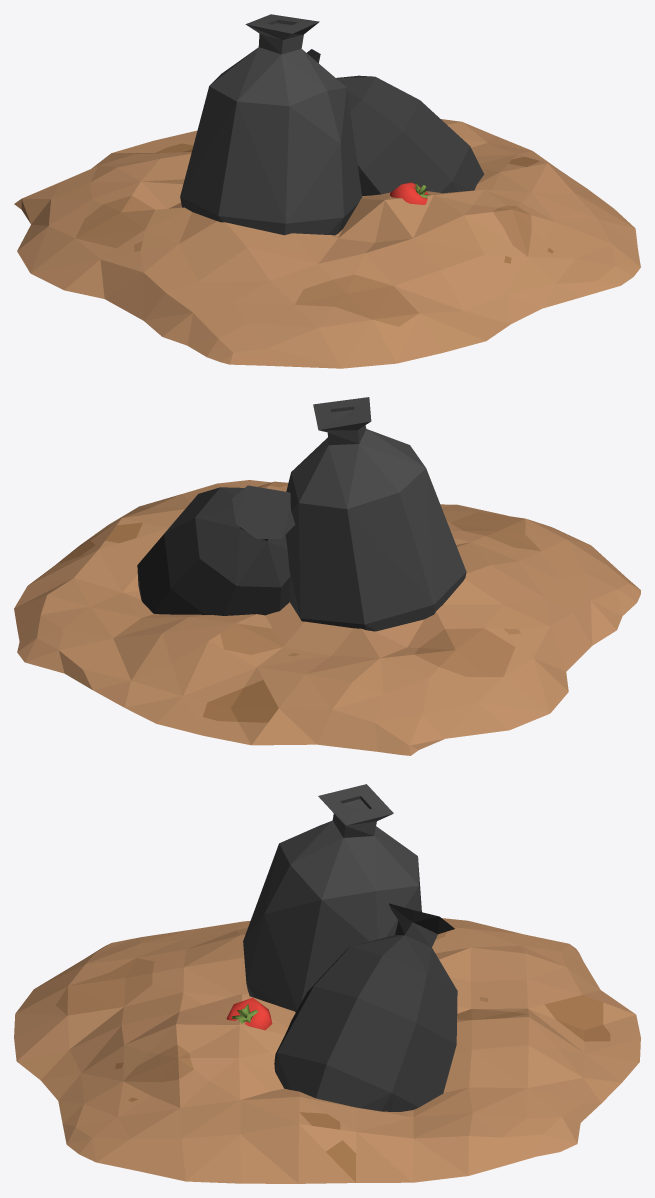
Rendered from Garbage_01.fbx.
3 views of the same model, one above another, from view 1: azimuth 30°, elevation 25°; view 2: azimuth 150°, elevation 25°; view 3: azimuth 270°, elevation 25° (orthographic). The views are drawn at different scales.
Parts seen in each view (by area): view 1: Garbage_01; view 2: Garbage_01; view 3: Garbage_01.
Part boxes in pixels (left/top/right/bottom): Garbage_01: left=14, top=14, right=640, bottom=368; Garbage_01: left=14, top=397, right=640, bottom=755; Garbage_01: left=14, top=784, right=640, bottom=1183.
Size of the model in its own units: 128 by 70.9 by 127.
